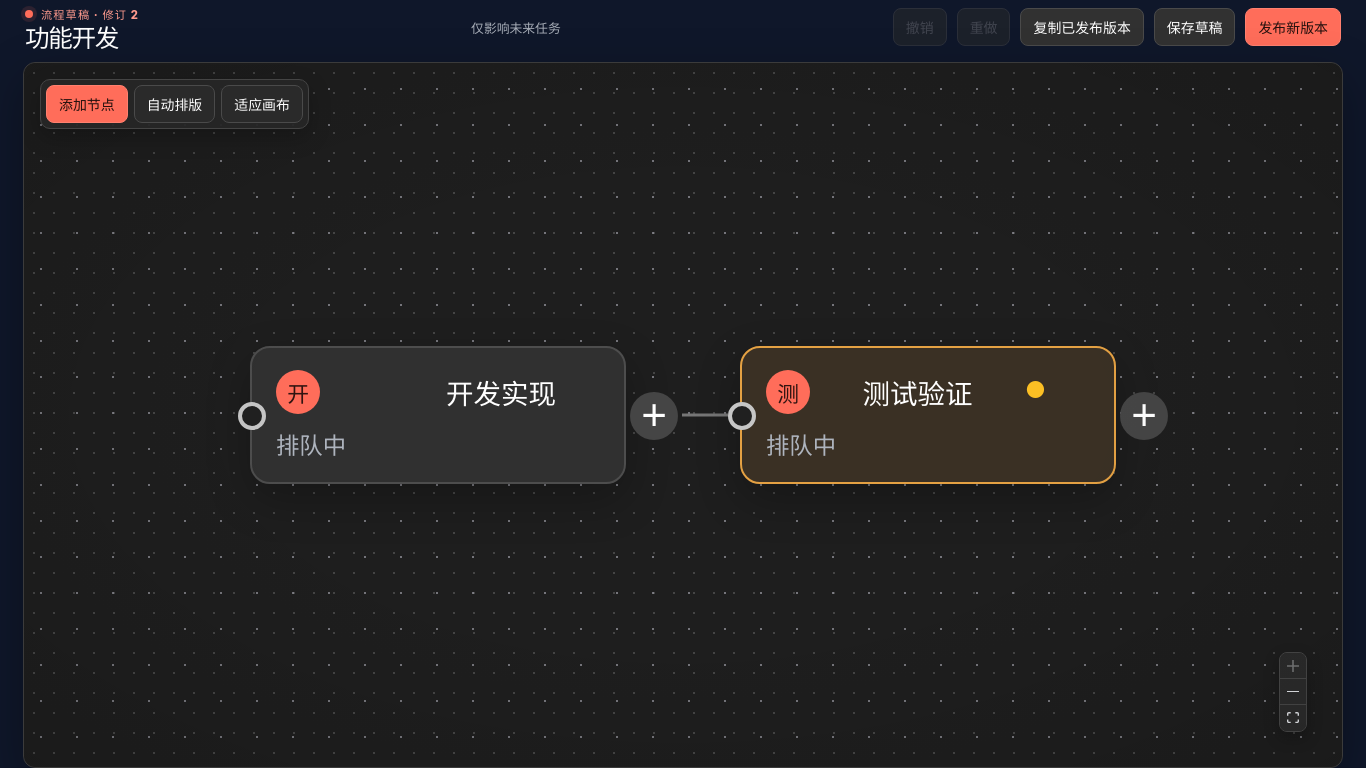
Scenario: workflow editor › keeps mandatory gates locked and separates saving from publication
This screenshot has width=1366, height=768.
Expected: the button "添加节点" is shown, [46,85,128,123]
Click the button "保存草稿" at (1195, 27), box [1154,8,1235,46]
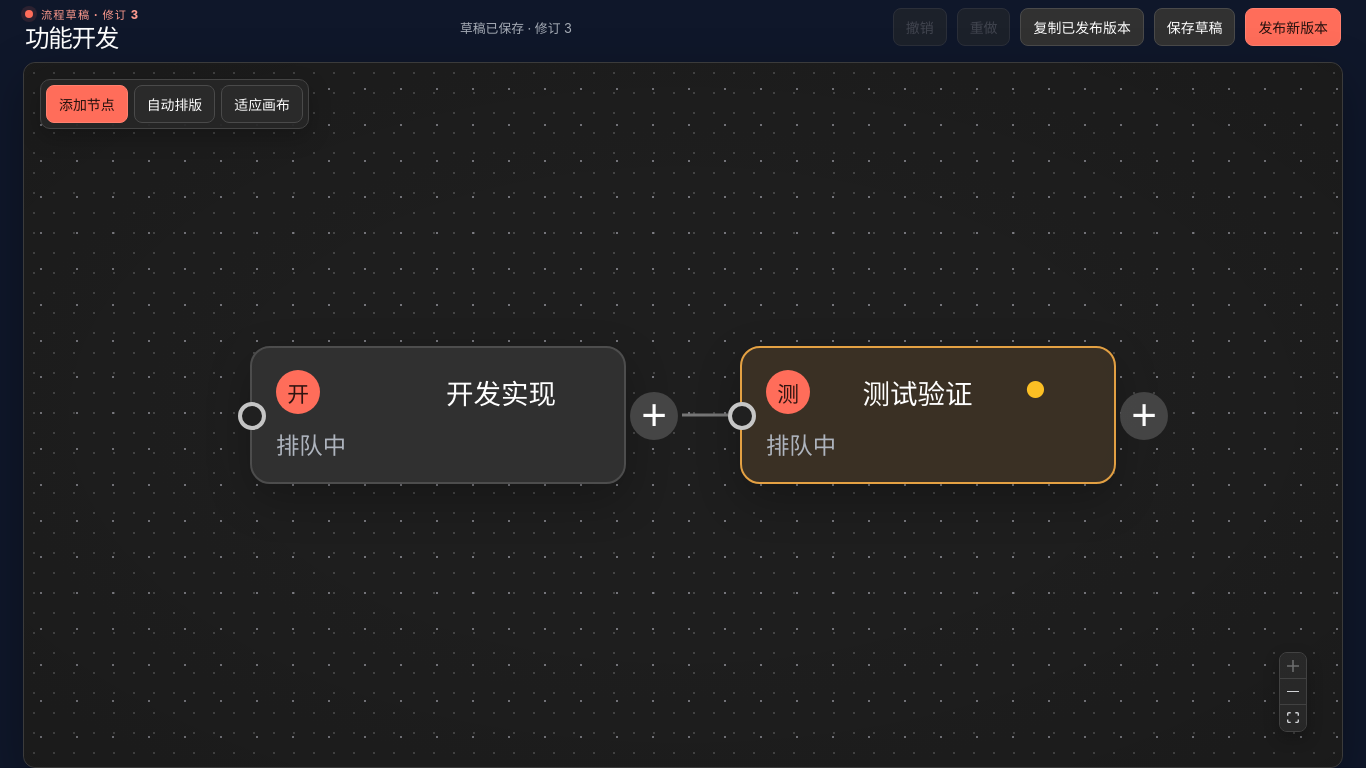
Click the button "发布新版本" at (1293, 27), box [1246,8,1341,46]
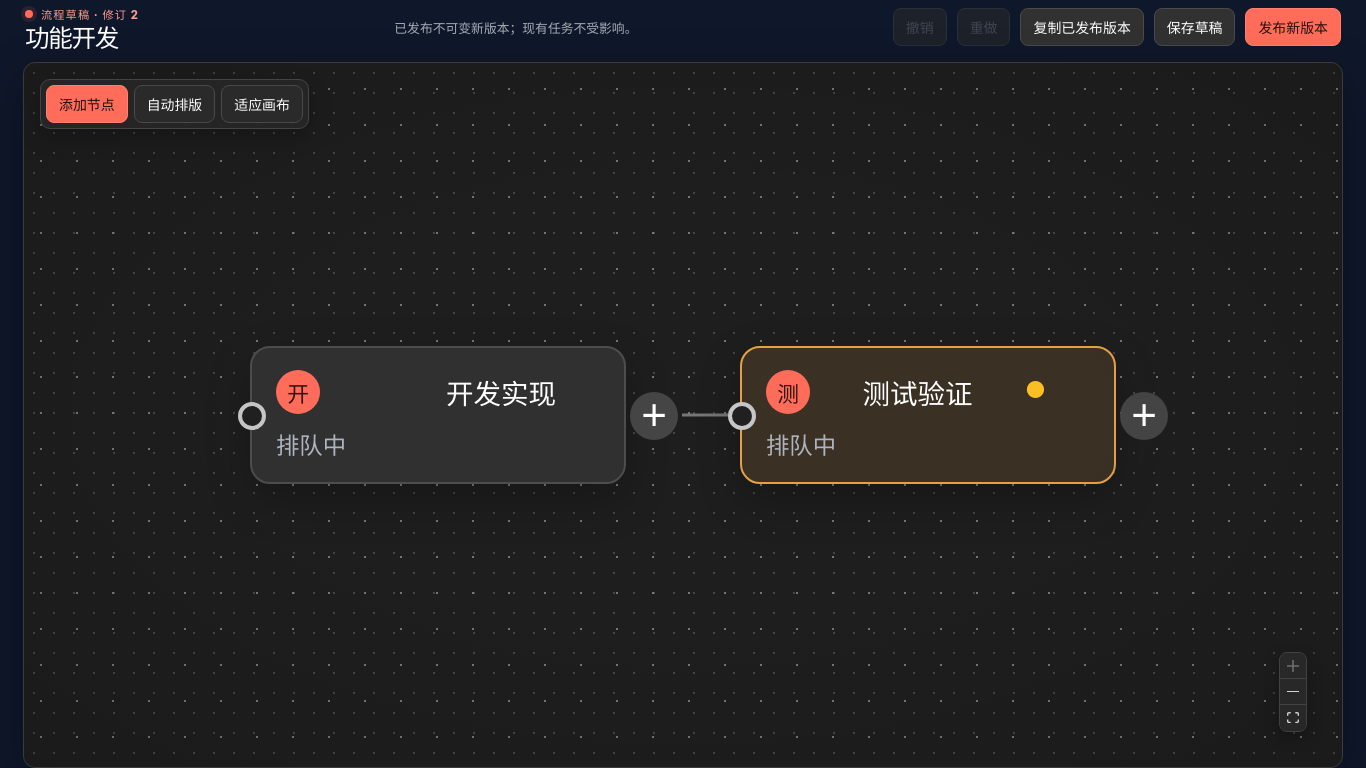
Expected: the text "已发布不可变新版本；现有任务不受影响。" is shown, [394,18,637,36]
